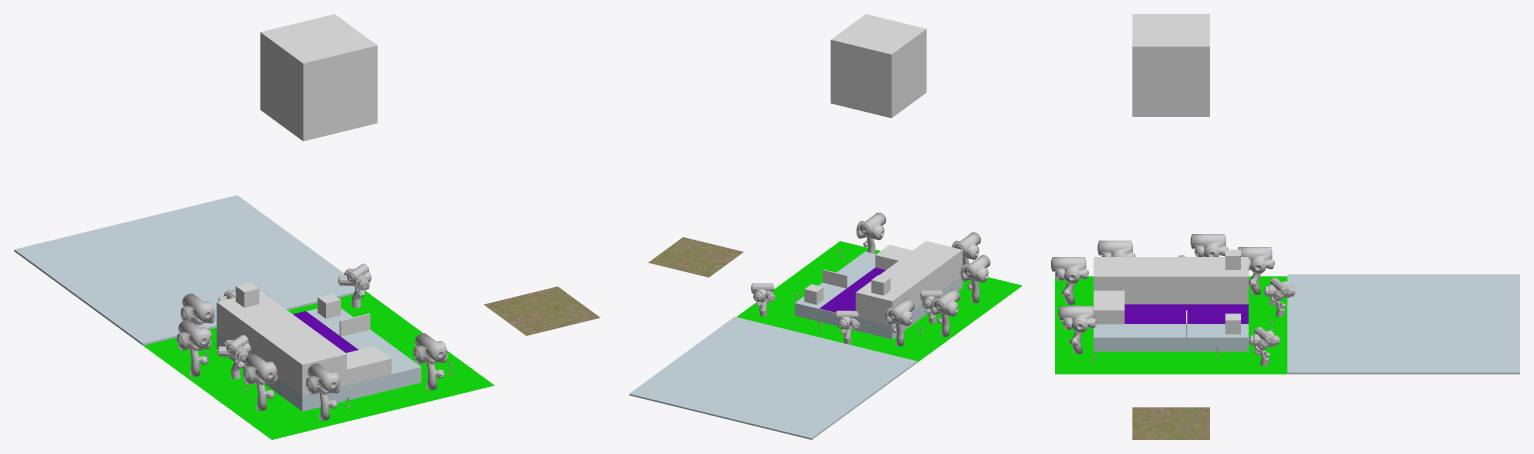
The model's file is stage2.gltf.
3 renders of one model, left to right at view 1: azimuth 30°, elevation 25°; view 2: azimuth 150°, elevation 25°; view 3: azimuth 270°, elevation 25°, orthographic. The views are drawn at different scales.
Visible parts, largest first — view 1: 立方体, 仮, 仮床.001, 仮床, 床.008, 床.004, 床, 床.001, 床.003, 平面, 床.007, 床.006 (+12 smaller); view 2: 立方体, 仮, 仮床, 仮床.001, 床.008, 床.001, 床.007, 床.004, 床.005, 床, 床.006, 平面 (+13 smaller); view 3: 仮, 立方体, 仮床, 仮床.001, 仮床.002, 床.006, 床.007, 床.003, 床.008, 床.004, 床, 床.001 (+12 smaller).
Boxes of the visible parts, x1,y1,x2,y2 form: 立方体: (260,14,377,141); 仮: (143,291,494,439); 仮床.001: (251,316,346,395); 仮床: (216,308,421,411); 床.008: (14,231,131,282); 床.004: (57,263,173,313); 床: (132,244,248,293); 床.001: (89,213,205,262); 床.003: (206,226,322,275); 平面: (483,286,600,335); 床.007: (163,195,279,244); 床.006: (249,258,365,309); 立方体: (830,14,926,118); 仮: (737,241,1022,362); 仮床: (795,251,962,339); 仮床.001: (884,241,962,305); 床.008: (751,398,846,439); 床.001: (690,383,785,424); 床.007: (629,368,724,409); 床.004: (786,372,882,413); 床.005: (822,346,917,387); 床: (725,357,820,397); 床.006: (700,316,795,356); 平面: (648,237,743,277); 仮: (1055,276,1287,374); 立方体: (1132,14,1209,116); 仮床: (1093,324,1248,351); 仮床.001: (1093,257,1186,304); 仮床.002: (1186,257,1248,304); 床.006: (1287,340,1364,374); 床.007: (1442,340,1519,374); 床.003: (1365,340,1442,374); 床.008: (1442,274,1519,307); 床.004: (1365,274,1442,307); 床: (1365,307,1442,339); 床.001: (1442,307,1519,339).
Size of the model in its own units: 50.84 by 42.06 by 60.5.
